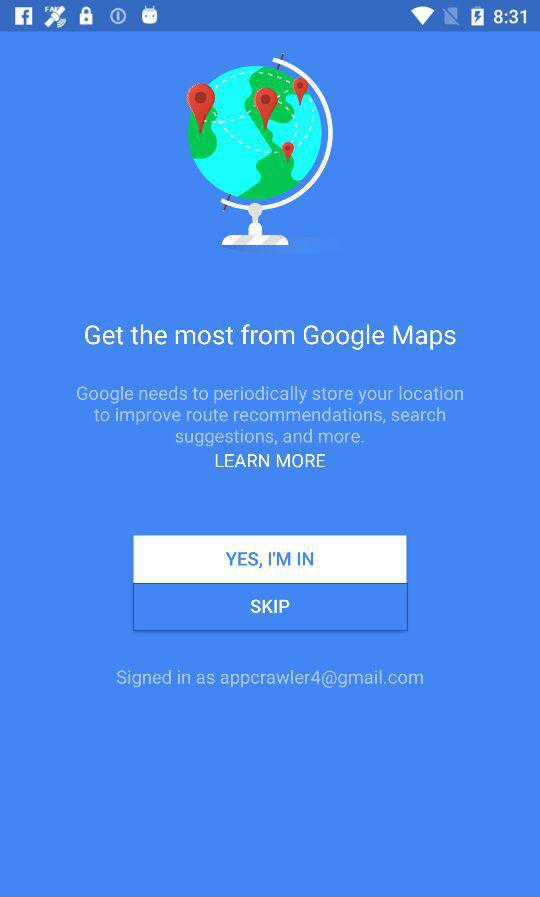Image: (185, 52, 335, 247)
Text: (77, 385, 465, 448), (84, 323, 457, 352), (116, 669, 425, 688), (215, 453, 327, 469)
TextButton: (133, 583, 408, 631), (134, 535, 408, 583)
UpperTaskBar: (1, 1, 540, 33)
